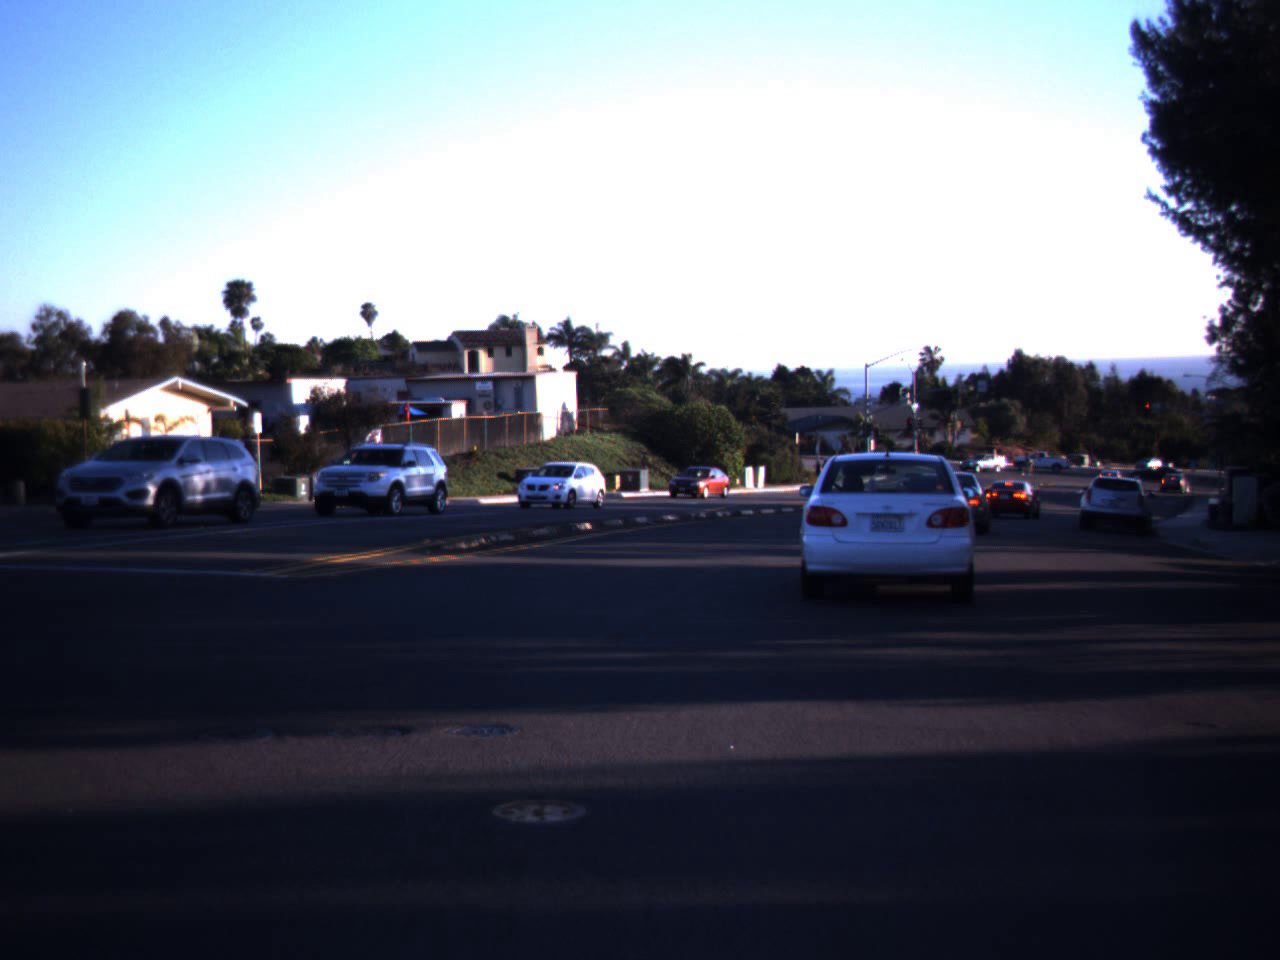stop: (1142, 400, 1154, 422)
